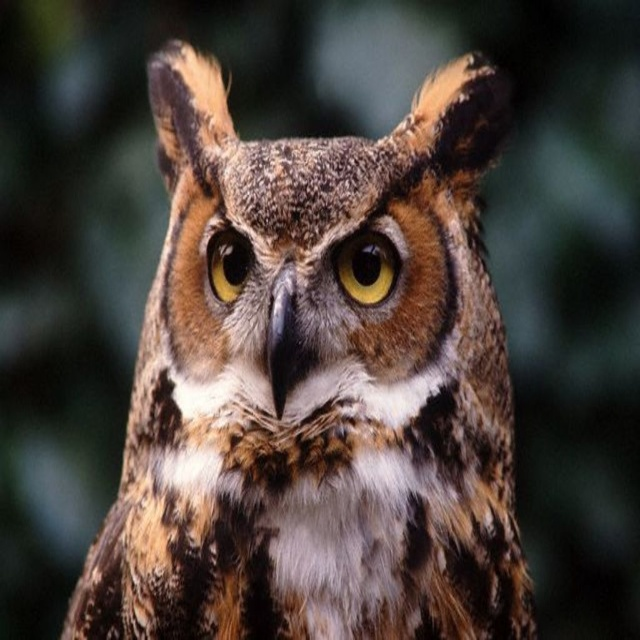Owl: (60, 30, 542, 639)
